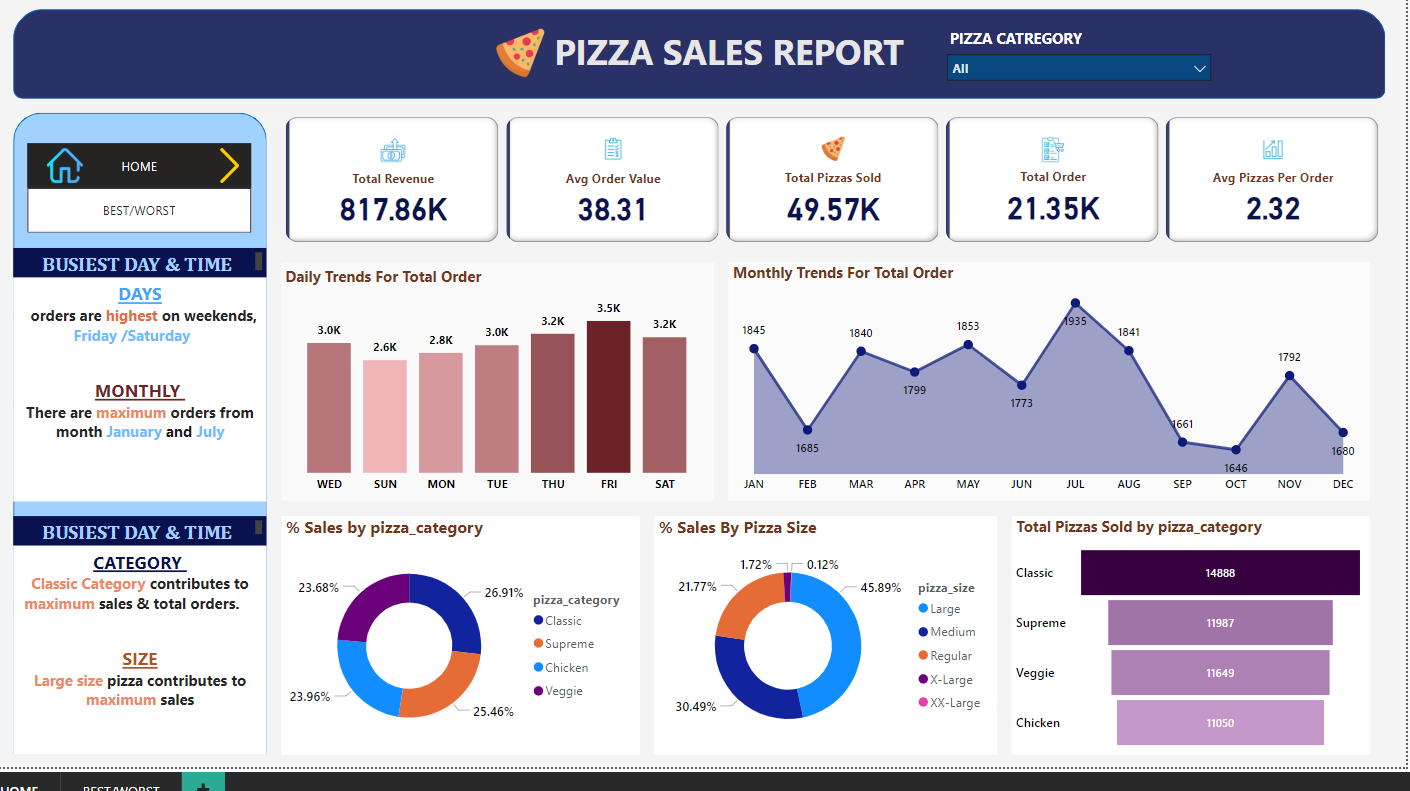

The dashboard page shown, as its layout file describes it:
{"tool":"powerbi","page":{"name":"HOME","canvas":[1510,830],"ordinal":0},"visuals":[{"type":"cardVisual","fields":{"Data":["public pizzas_sales.Total Revenue","public pizzas_sales.Avg Order Value","public pizzas_sales.Total Pizzas Sold","public pizzas_sales.Total Order","public pizzas_sales.Avg Pizzas Per Order"]},"box":[304,128,1184,144],"z":0},{"type":"shape","box":[16,16,1472,96],"z":1},{"type":"textbox","box":[560,32,448,64],"z":2},{"type":"image","box":[512,32,96,64],"z":3},{"type":"columnChart","title":"Daily Trends For Total Order","fields":{"Category":["public pizzas_sales.Order_day"],"Y":["public pizzas_sales.Total Order"]},"box":[304,288,464,256],"z":4},{"type":"areaChart","title":"Monthly Trends For Total Order","fields":{"Category":["public pizzas_sales.Order Month"],"Y":["public pizzas_sales.Total Order"]},"box":[784,288,688,256],"z":5},{"type":"donutChart","title":"% Sales by pizza_category","fields":{"Category":["public pizzas_sales.pizza_category"],"Y":["public pizzas_sales.Total Revenue"]},"box":[304,560,384,256],"z":6},{"type":"donutChart","title":"% Sales By Pizza Size","fields":{"Y":["public pizzas_sales.Total Revenue"],"Category":["public pizzas_sales.pizza_size"]},"box":[704,560,368,256],"z":7},{"type":"funnel","fields":{"Category":["public pizzas_sales.pizza_category"],"Y":["public pizzas_sales.Total Pizzas Sold"]},"box":[1088,560,384,256],"z":8},{"type":"shape","box":[16,128,272,688],"z":9},{"type":"textbox","box":[16,272,272,32],"z":10},{"type":"textbox","box":[16,304,272,240],"z":11},{"type":"textbox","box":[16,560,272,32],"z":12},{"type":"textbox","box":[16,592,272,224],"z":13},{"type":"slicer","fields":{"Values":["public pizzas_sales.pizza_category"]},"box":[1008,32,304,64],"z":14},{"type":"pageNavigator","box":[32,160,240,48],"z":15},{"type":"pageNavigator","box":[32,208,240,48],"z":16},{"type":"image","box":[208,160,80,48],"z":17},{"type":"image","box":[48,160,48,48],"z":18}]}

Visuals, with their boxes on the page's 1510x830 design canvas (x1, y1, x2, y2). These are canvas units, not pixel positions in the 1410x791 screenshot, which may show the page scaled, cropped or inside an application window:
cardVisual - public pizzas_sales.Total Revenue x public pizzas_sales.Avg Order Value: (left=304, top=128, right=1488, bottom=272)
shape: (left=16, top=16, right=1488, bottom=112)
textbox: (left=560, top=32, right=1008, bottom=96)
image: (left=512, top=32, right=608, bottom=96)
"Daily Trends For Total Order" columnChart: (left=304, top=288, right=768, bottom=544)
"Monthly Trends For Total Order" areaChart: (left=784, top=288, right=1472, bottom=544)
"% Sales by pizza_category" donutChart: (left=304, top=560, right=688, bottom=816)
"% Sales By Pizza Size" donutChart: (left=704, top=560, right=1072, bottom=816)
funnel - public pizzas_sales.pizza_category x public pizzas_sales.Total Pizzas Sold: (left=1088, top=560, right=1472, bottom=816)
shape: (left=16, top=128, right=288, bottom=816)
textbox: (left=16, top=272, right=288, bottom=304)
textbox: (left=16, top=304, right=288, bottom=544)
textbox: (left=16, top=560, right=288, bottom=592)
textbox: (left=16, top=592, right=288, bottom=816)
slicer - public pizzas_sales.pizza_category: (left=1008, top=32, right=1312, bottom=96)
pageNavigator: (left=32, top=160, right=272, bottom=208)
pageNavigator: (left=32, top=208, right=272, bottom=256)
image: (left=208, top=160, right=288, bottom=208)
image: (left=48, top=160, right=96, bottom=208)
